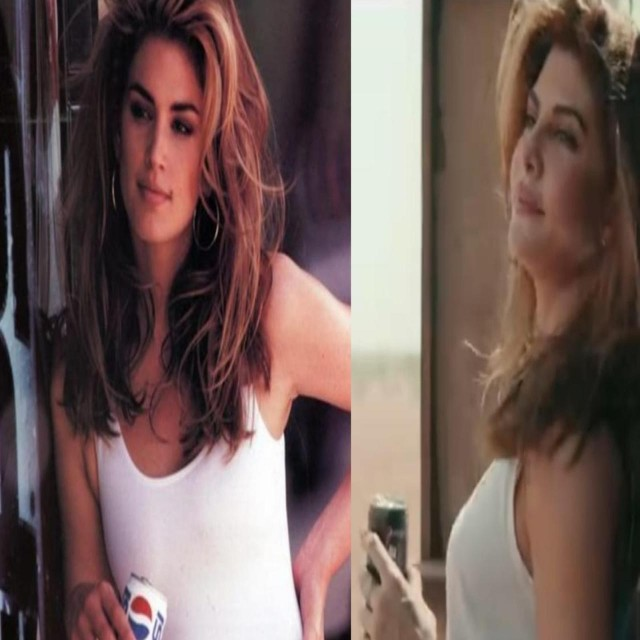pepsi: (127, 592, 153, 640)
